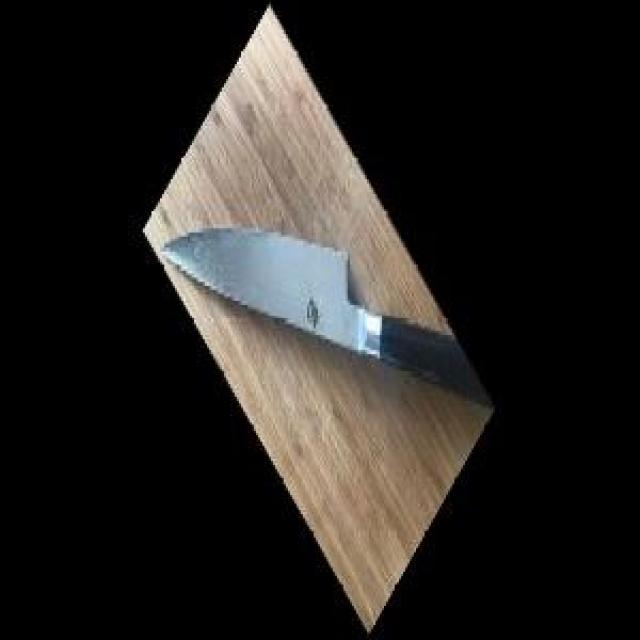knife: (156, 230, 495, 412)
